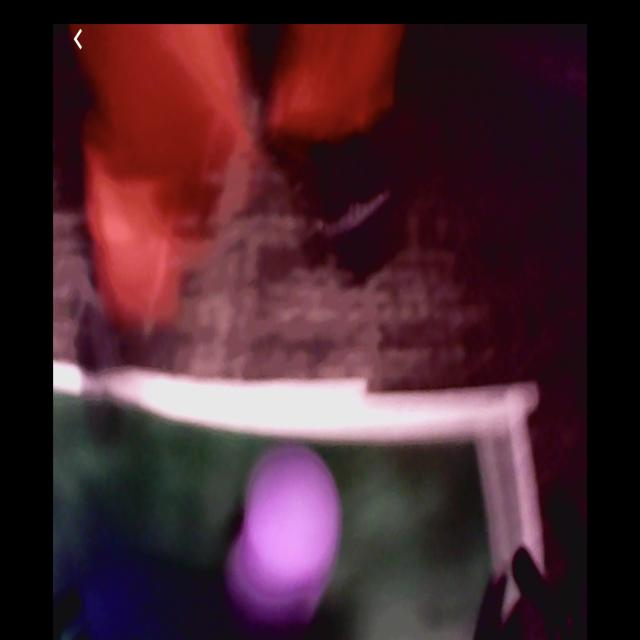ball: (248, 460, 341, 595)
